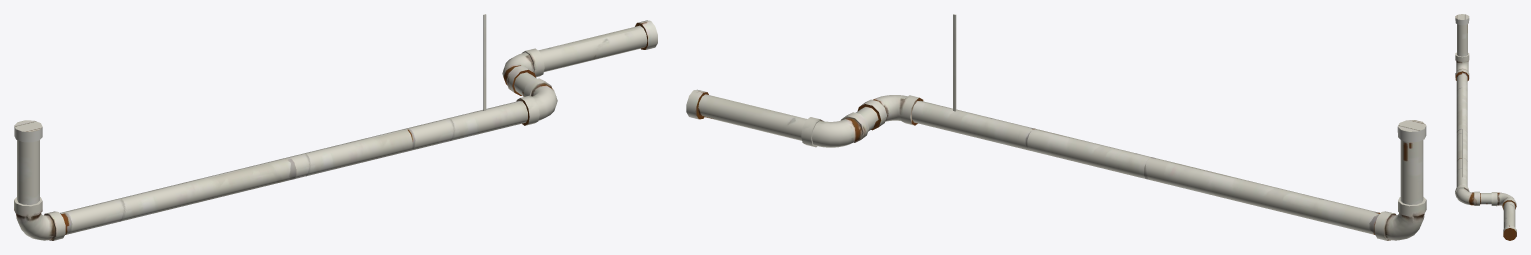
The picture shows the model from 3 angles, left to right: view 1: azimuth 30°, elevation 25°; view 2: azimuth 150°, elevation 25°; view 3: azimuth 270°, elevation 25°; orthographic projection. The views are drawn at different scales.
Parts seen in each view (by area): view 1: body0_model0_lod0_mesh0; view 2: body0_model0_lod0_mesh0; view 3: body0_model0_lod0_mesh0.
Boxes of the visible parts, left/top/right/bottom form: body0_model0_lod0_mesh0: left=14, top=14, right=657, bottom=240; body0_model0_lod0_mesh0: left=686, top=14, right=1426, bottom=240; body0_model0_lod0_mesh0: left=1455, top=14, right=1516, bottom=240.
Size of the model in its own units: 137 by 22.85 by 21.38.
1 material, 1 textured.
